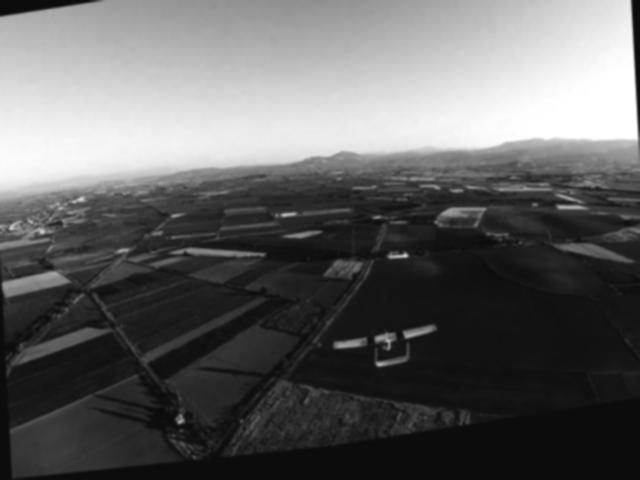hedef: (321, 313, 449, 394)
